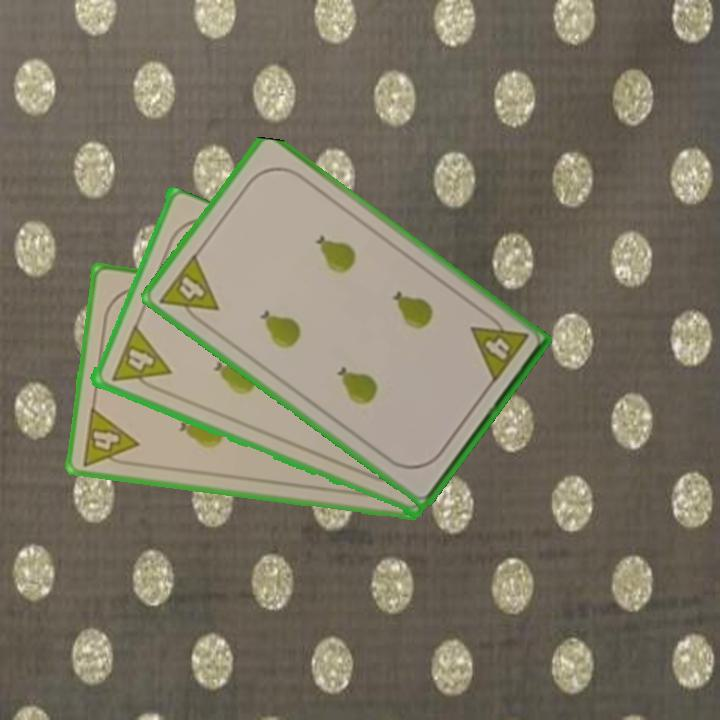4p: (155, 250, 222, 330), (467, 308, 531, 386), (107, 323, 173, 396), (78, 404, 141, 470)
